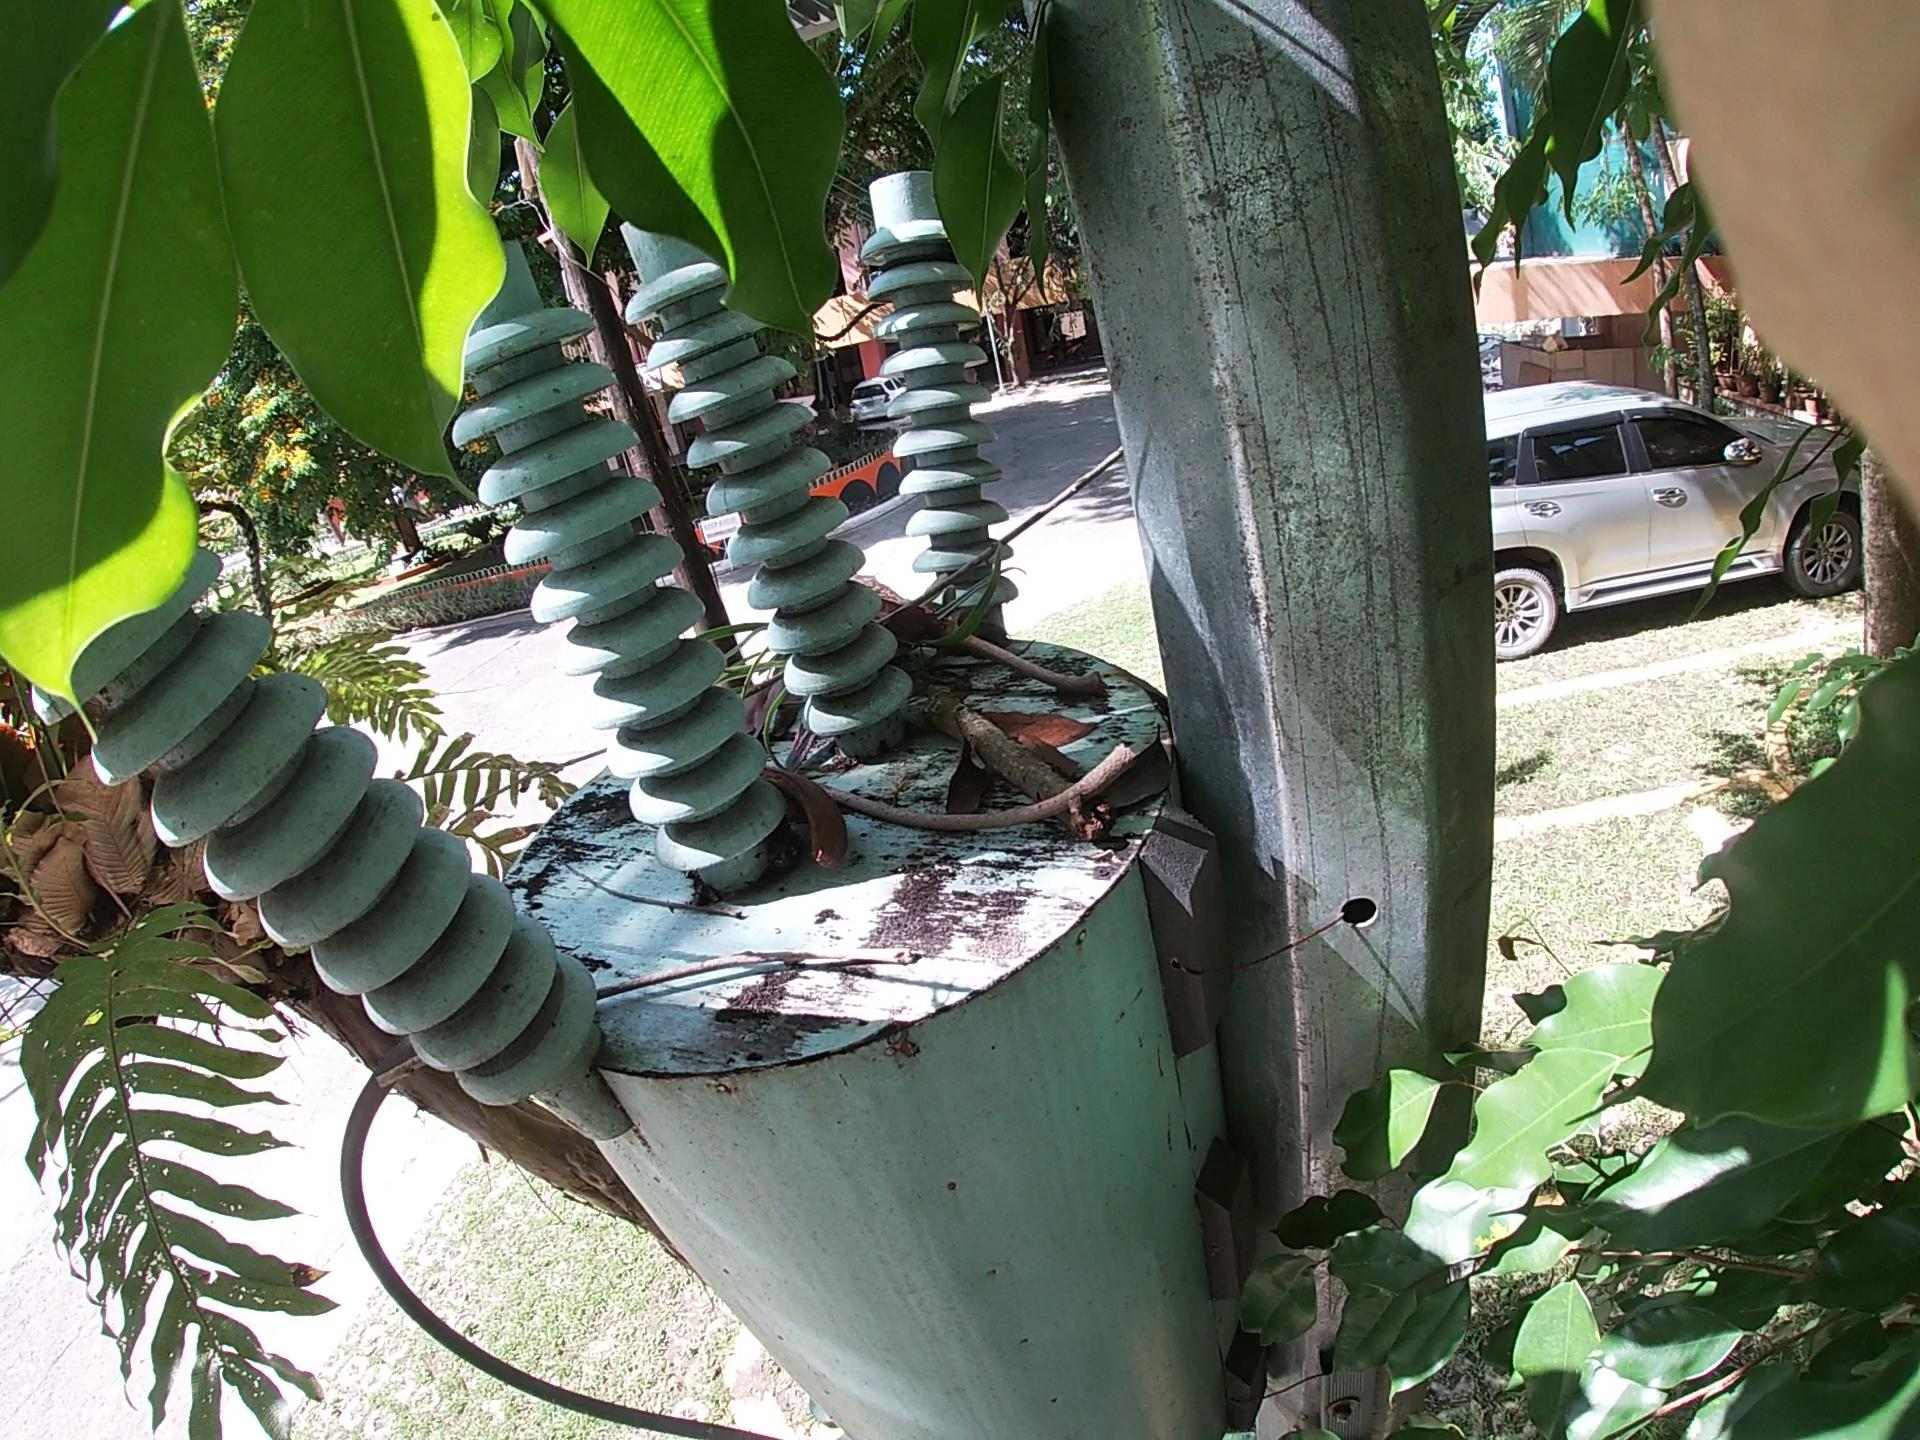branch with leaves: (819, 513, 1160, 883)
leaf: (925, 735, 1143, 880)
tree branch: (358, 905, 912, 1082), (903, 369, 1144, 666), (721, 750, 1166, 871), (901, 610, 1214, 726)
